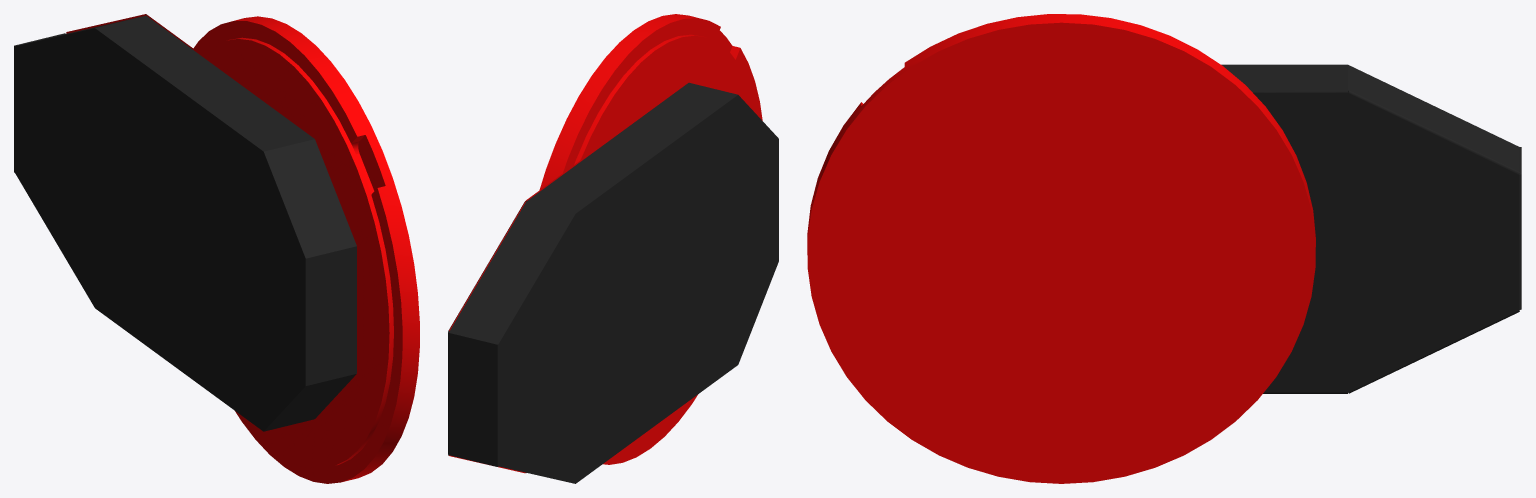
3 views of the same model, side by side, from view 1: azimuth 30°, elevation 25°; view 2: azimuth 150°, elevation 25°; view 3: azimuth 270°, elevation 25° (orthographic). The views are drawn at different scales.
Visible parts, largest first — view 1: Node_000002784F0EDDF0 (×2); view 2: Node_000002784F0EDDF0 (×2); view 3: Node_000002784F0EDDF0 (×2).
Boxes of the visible parts, <box> form: Node_000002784F0EDDF0 (×2): <box>14,14,419,483</box>; Node_000002784F0EDDF0 (×2): <box>448,14,778,483</box>; Node_000002784F0EDDF0 (×2): <box>807,14,1521,483</box>.
Bounding box in the file's own units: 0.089 × 0.5 × 0.7018.
